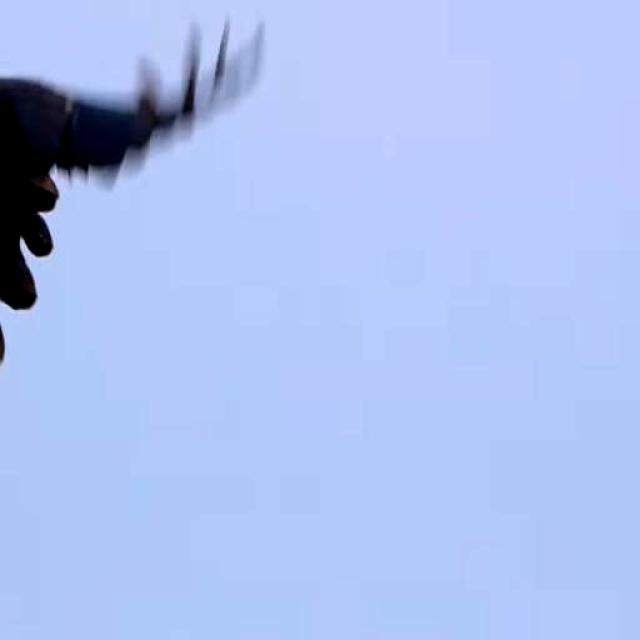airplane: (0, 36, 264, 479)
